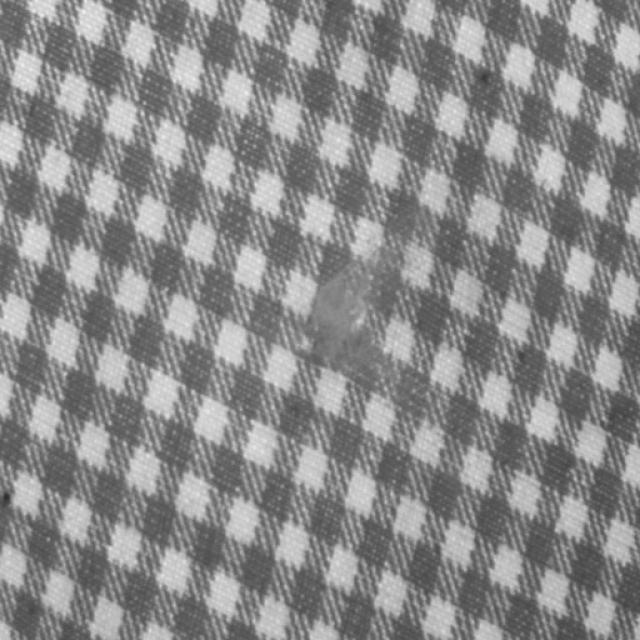Stain-Defect: (309, 266, 370, 365)
